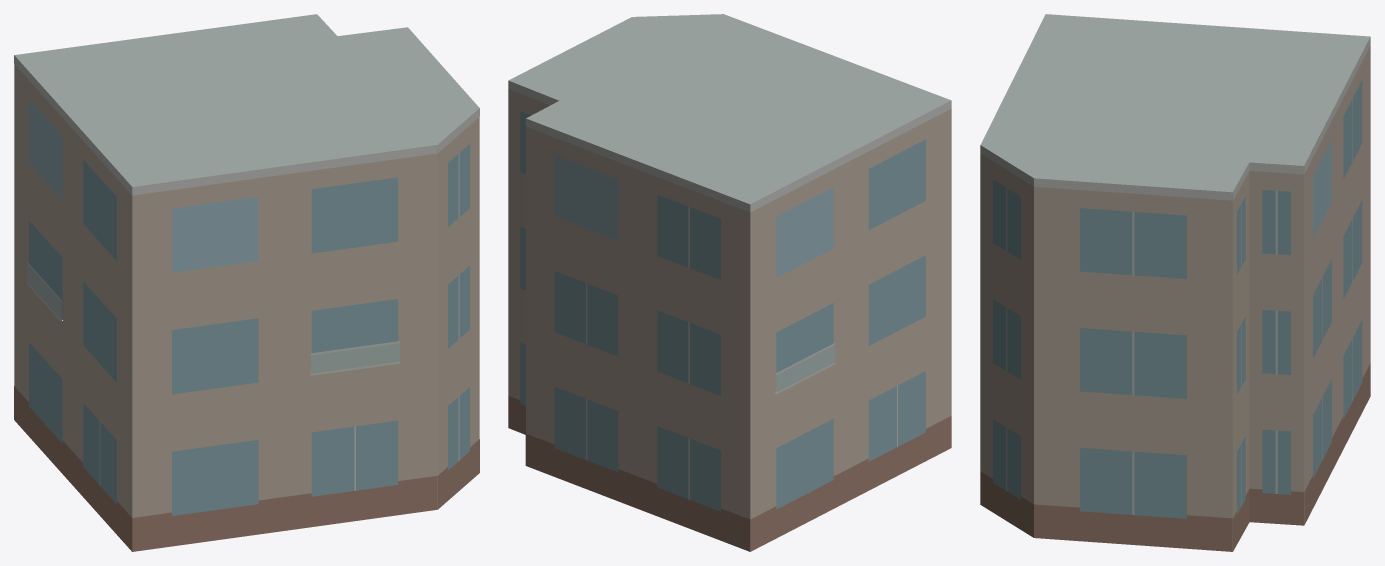
Rendered from survey-upis-32658424.glb.
3 views of the same model, side by side, from view 1: azimuth 30°, elevation 25°; view 2: azimuth 150°, elevation 25°; view 3: azimuth 270°, elevation 25° (orthographic). The views are drawn at different scales.
Parts seen in each view (by area): view 1: survey-upis-32658424.tmp; view 2: survey-upis-32658424.tmp; view 3: survey-upis-32658424.tmp.
Part boxes in pixels (box(x1,y1,x2,y2)): survey-upis-32658424.tmp: box(14, 14, 479, 551); survey-upis-32658424.tmp: box(508, 14, 951, 551); survey-upis-32658424.tmp: box(980, 14, 1370, 551).
Bounding box in the file's own units: 11.12 × 10.45 × 10.29.
